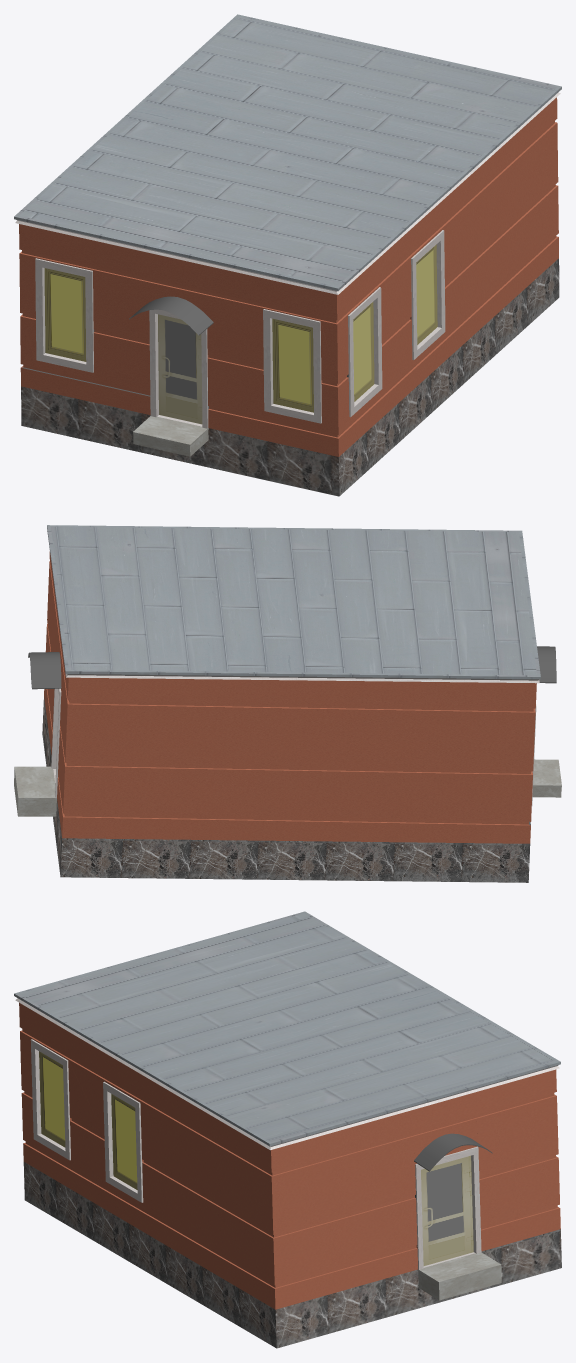
The picture shows the model from 3 angles, top to bottom: view 1: azimuth 30°, elevation 25°; view 2: azimuth 150°, elevation 25°; view 3: azimuth 270°, elevation 25°; orthographic projection. The views are drawn at different scales.
Parts seen in each view (by area): view 1: 01080-50@500747687; view 2: 01080-50@500747687; view 3: 01080-50@500747687.
Boxes of the visible parts, x1,y1,x2,y2 form: 01080-50@500747687: (14,14,561,496); 01080-50@500747687: (14,525,561,882); 01080-50@500747687: (14,911,561,1348).
Size of the model in its own units: 8.18 by 3.43 by 7.67.
Materials: 1 (1 with a texture image).
